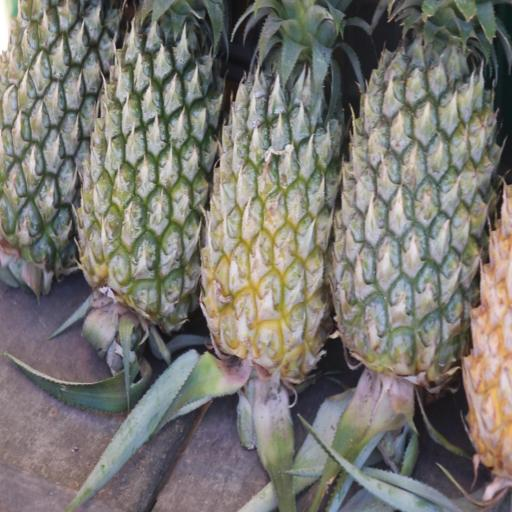------------------------------: (196, 0, 344, 393)
